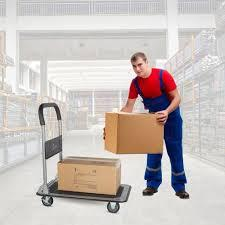Boxes: (104, 111, 164, 156), (58, 162, 118, 195)
